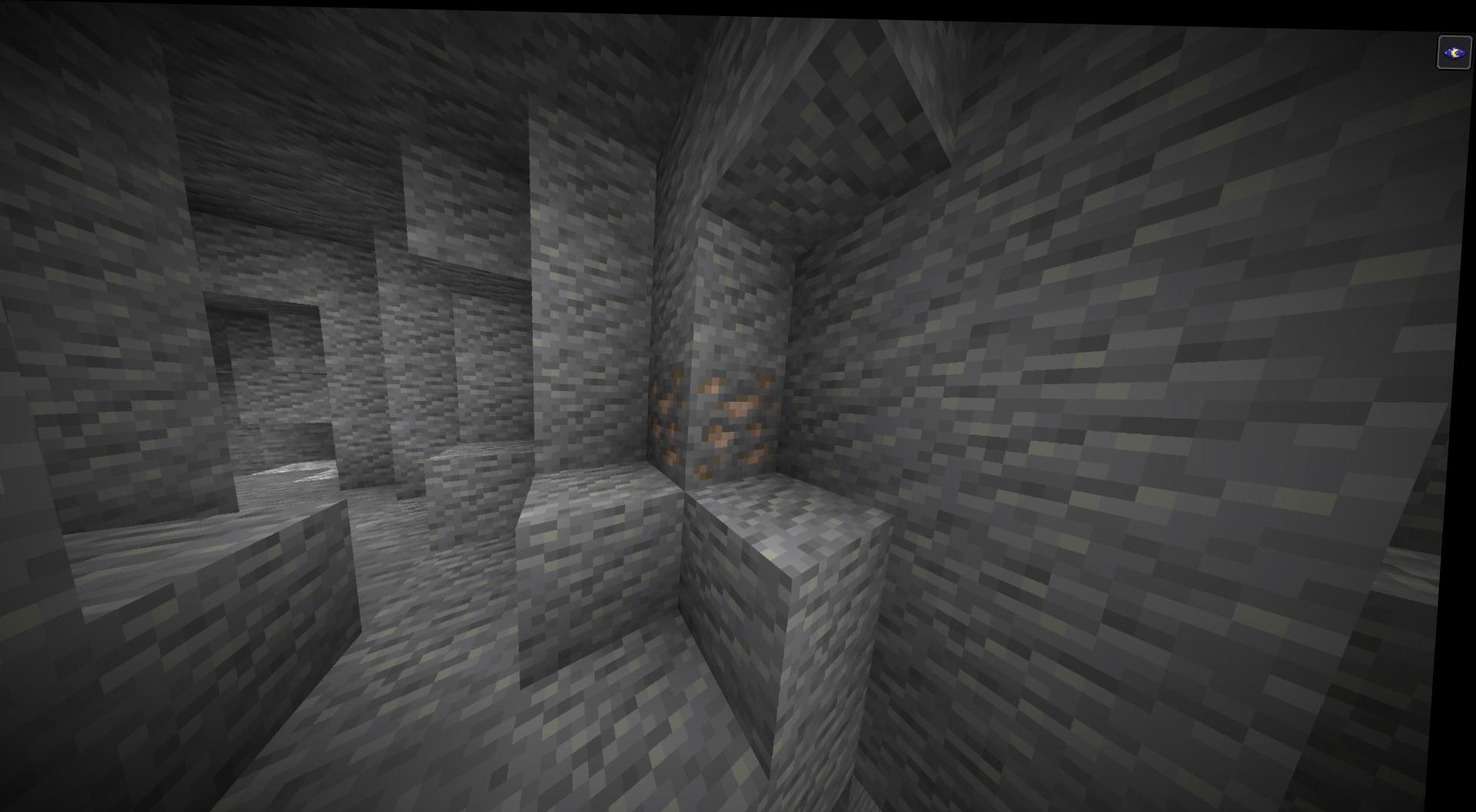iron ore: (699, 360, 788, 471), (648, 368, 700, 467)
